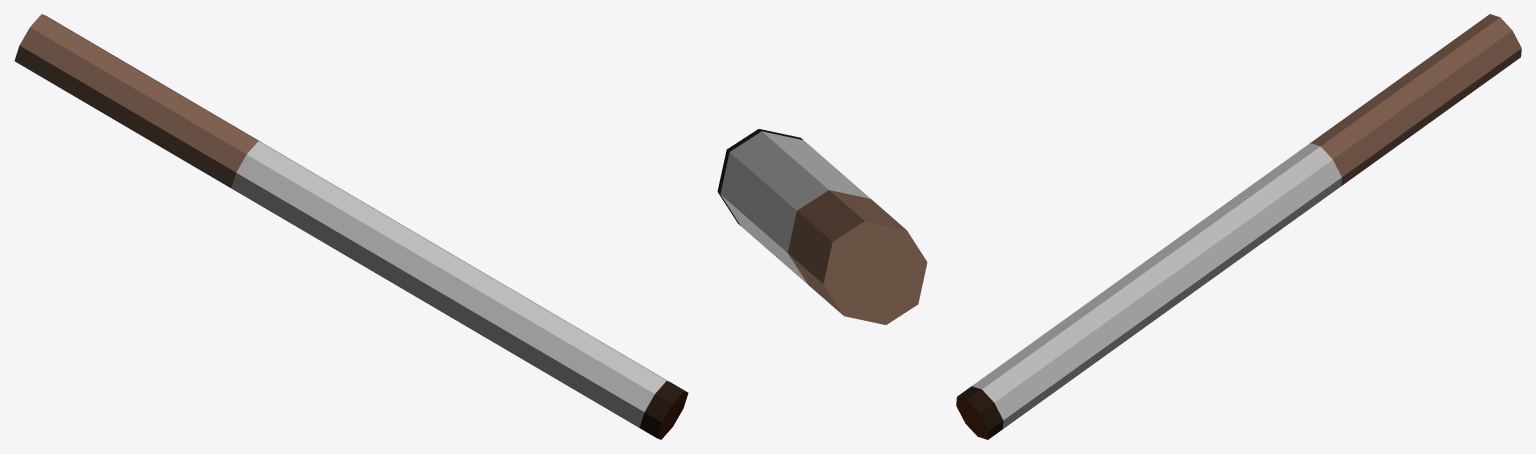
Rendered from Cigarro.fbx.
3 renders of one model, left to right at view 1: azimuth 30°, elevation 25°; view 2: azimuth 150°, elevation 25°; view 3: azimuth 270°, elevation 25°, orthographic. The views are drawn at different scales.
Parts seen in each view (by area): view 1: Cube.002; view 2: Cube.002; view 3: Cube.002.
Boxes of the visible parts, x1,y1,x2,y2 form: Cube.002: (14,14,688,439); Cube.002: (717,129,927,324); Cube.002: (956,14,1521,439).
Bounding box in the file's own units: 18.12 × 13.22 × 24.98.
